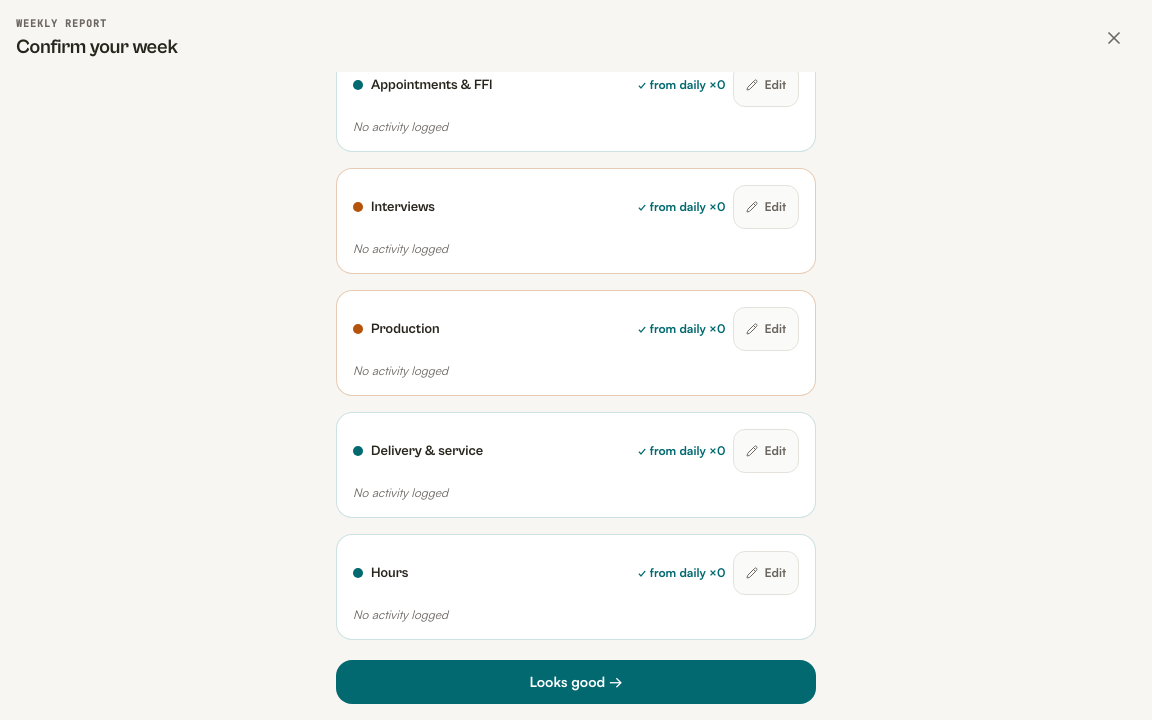
Scenario: Wizard v3 — fast-path back-navigation (Confirm ↔ step 10) › clears the Confirm shortcut after descending below step 10 via the phase rail
(page scrolled)
Confirm → step 10.
Click the button with test id "week-confirm-next" at (576, 682), box [336,660,816,704]
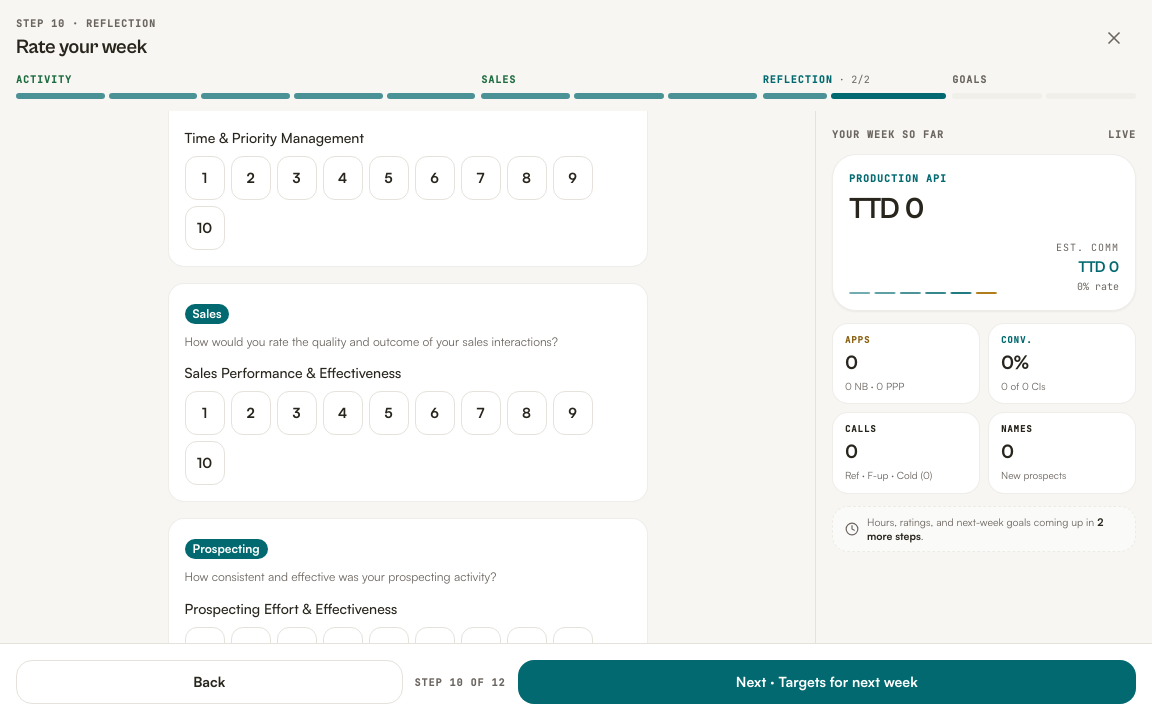
Check: the text with test id "wizard-v2-step-counter" reads "Step 10 of 12", box [414,674,506,690]
Jump back to step 9 via the rail (a visited dot) → cameFromConfirm clears.
Click the button with test id "wizard-v2-step-dot-9" at (795, 96), box [763,93,827,99]
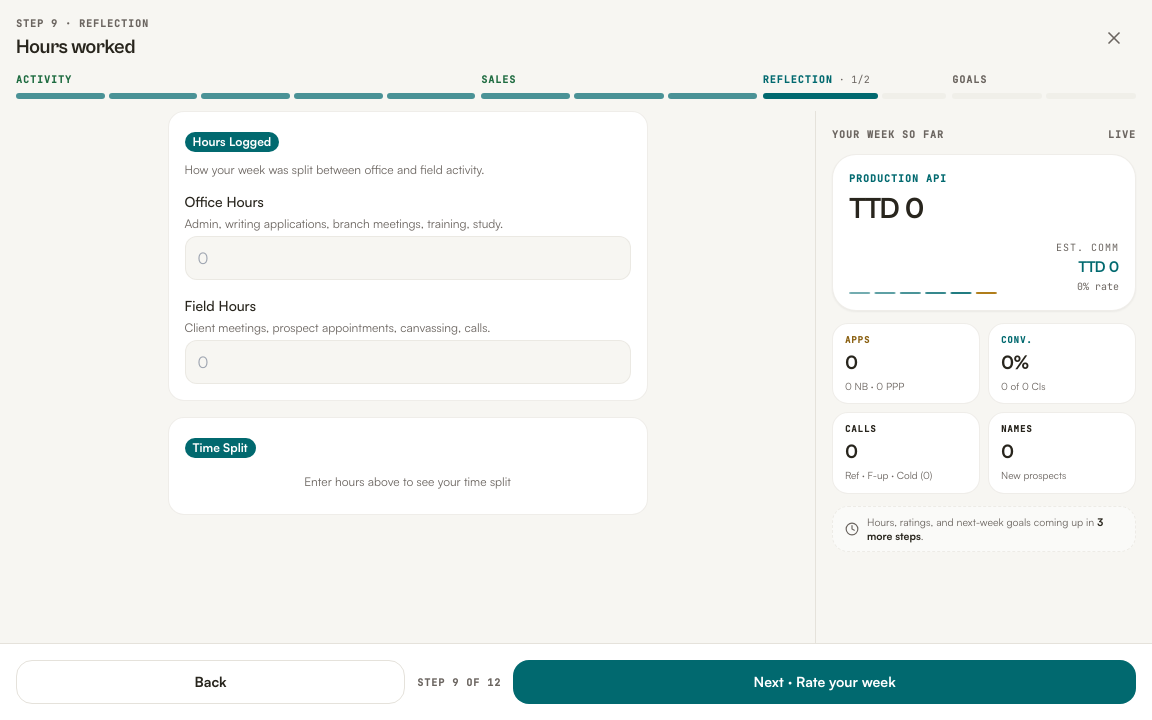
Check: the text with test id "wizard-v2-step-counter" reads "Step 9 of 12", box [417,674,501,690]
Walk forward back to step 10.
Click the button with test id "wizard-v2-next" at (825, 682), box [513,660,1136,704]
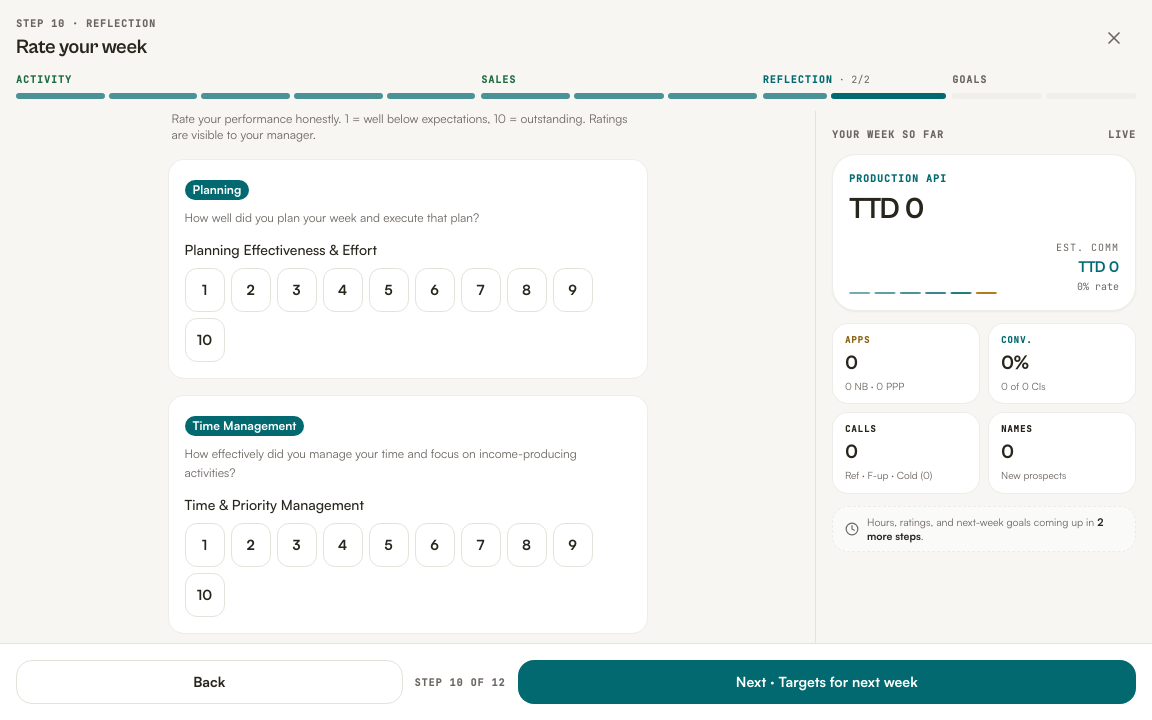
Check: the text with test id "wizard-v2-step-counter" reads "Step 10 of 12", box [414,674,506,690]
Back now decrements to step 9 (full-path behavior), NOT Confirm.
Click the button with test id "wizard-v2-back" at (209, 682), box [16,660,402,704]
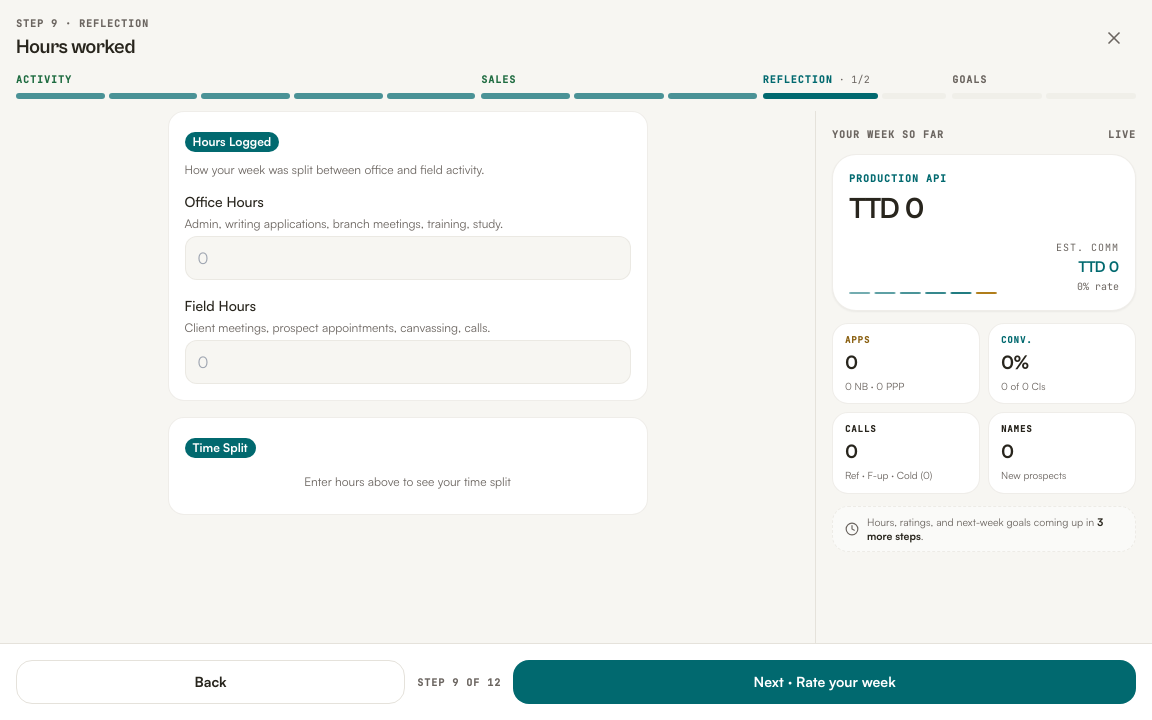
Check: the text with test id "wizard-v2-step-counter" reads "Step 9 of 12", box [417,674,501,690]
